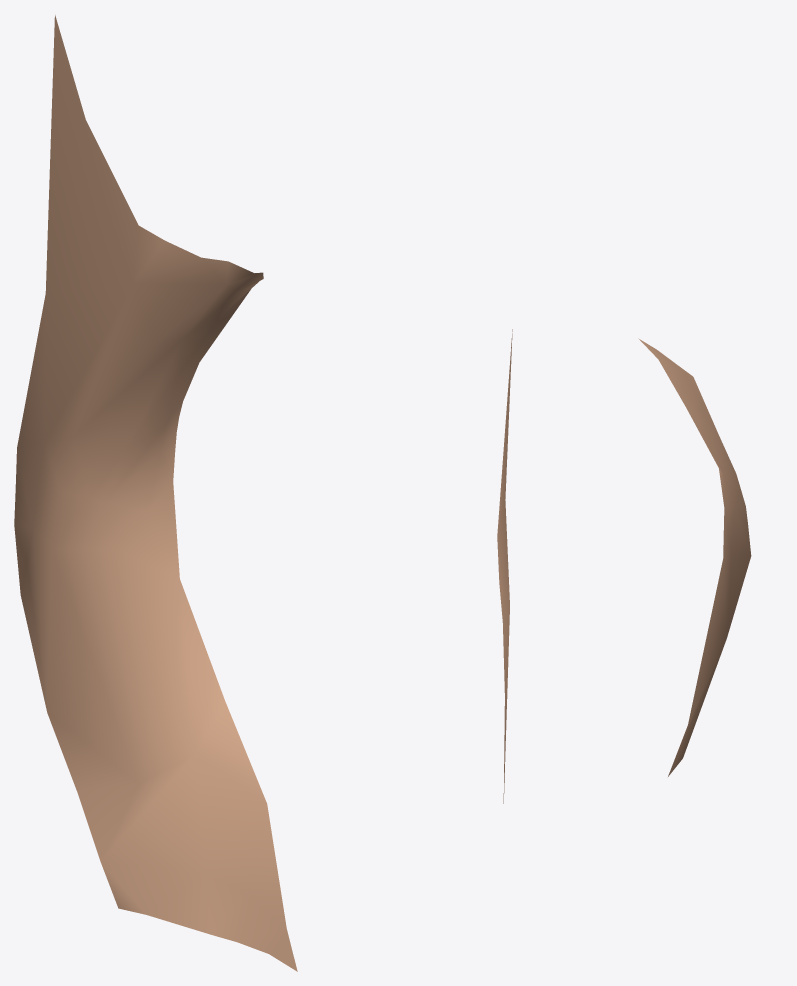
File: antihelix-r.glb
3 views of the same model, side by side, from view 1: azimuth 30°, elevation 25°; view 2: azimuth 150°, elevation 25°; view 3: azimuth 270°, elevation 25° (orthographic). The views are drawn at different scales.
Visible parts, largest first — view 1: Antihelix.r; view 2: Antihelix.r; view 3: Antihelix.r.
Part boxes in pixels (x1,y1,x2,y2): Antihelix.r: (14, 15, 297, 971); Antihelix.r: (497, 329, 512, 803); Antihelix.r: (638, 338, 751, 776).
Size of the model in its own units: 0.00794 by 0.0348 by 0.00853.
